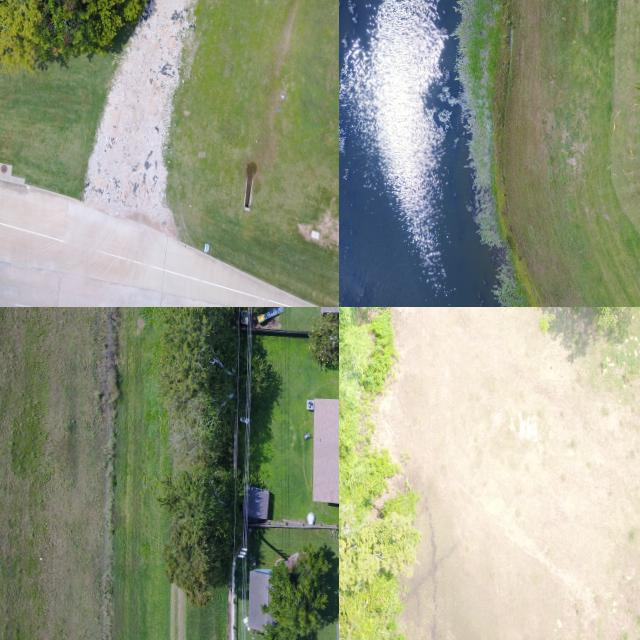fire: (339, 0, 500, 307)
